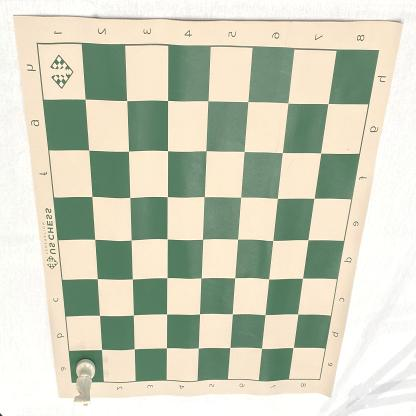white-knight: (72, 358, 97, 411)
